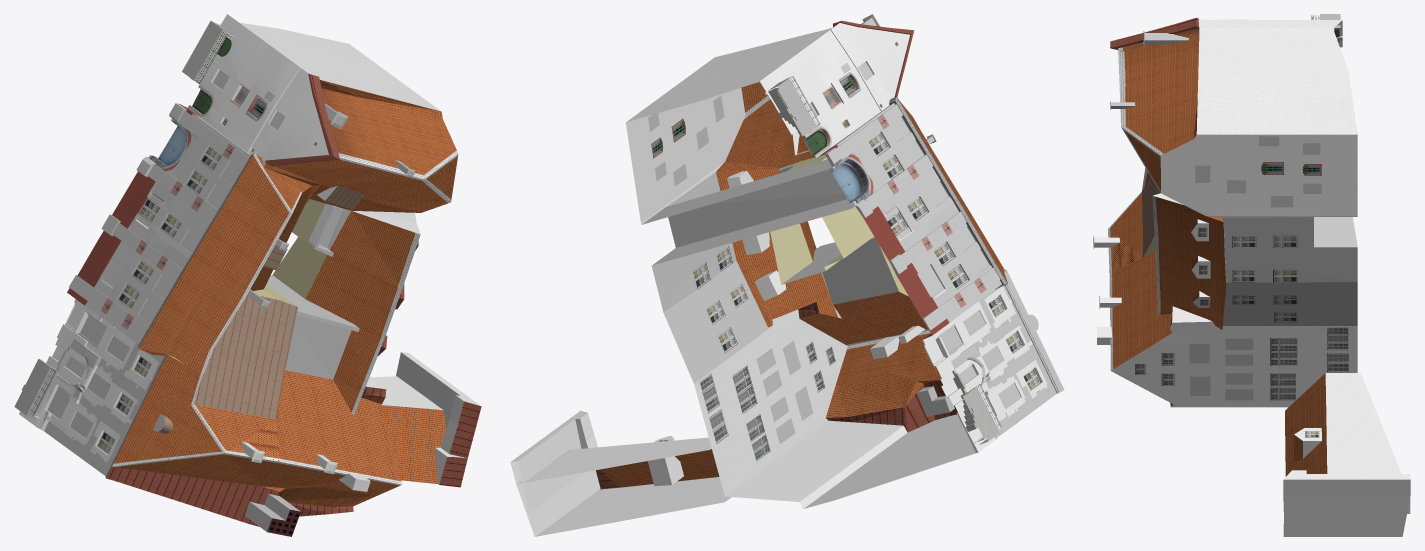
Rendered from Pikk_30.obj.
3 views of the same model, side by side, from view 1: azimuth 30°, elevation 25°; view 2: azimuth 150°, elevation 25°; view 3: azimuth 270°, elevation 25° (orthographic). The views are drawn at different scales.
Parts seen in each view (by area): view 1: Pikk_30; view 2: Pikk_30; view 3: Pikk_30.
Boxes of the visible parts, bbox=[...] form: Pikk_30: bbox=[14, 14, 481, 536]; Pikk_30: bbox=[510, 14, 1064, 536]; Pikk_30: bbox=[1093, 14, 1410, 536].
Bounding box in the file's own units: 37.76 × 40.42 × 26.76.
